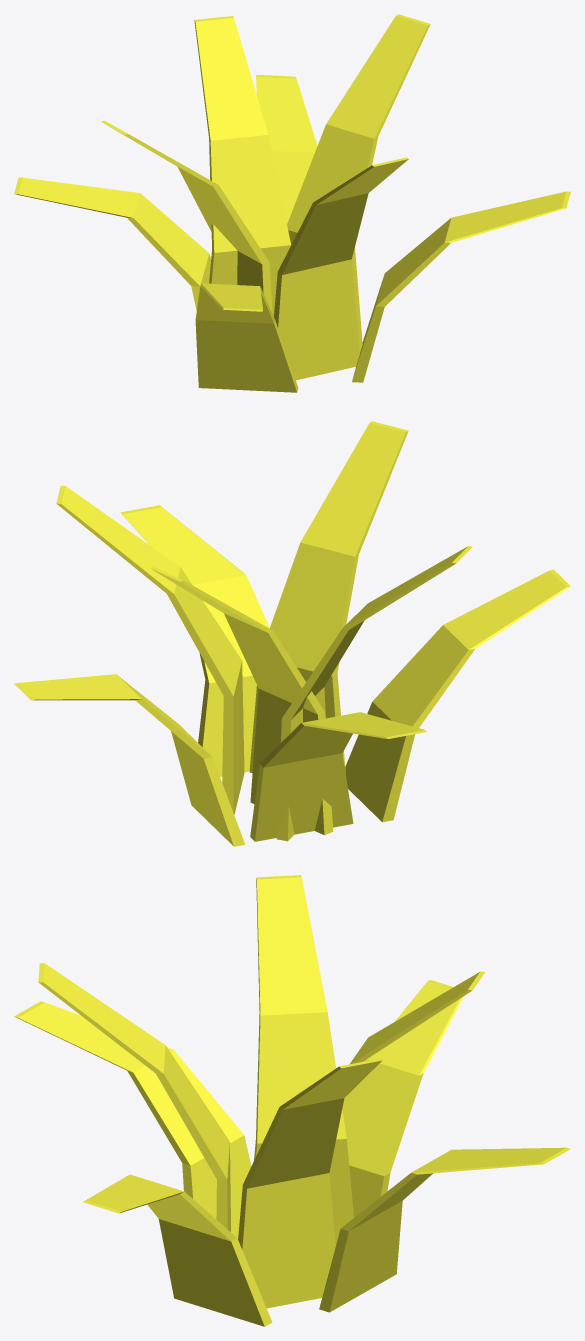
The model's file is grass_1.fbx.
3 views of the same model, one above another, from view 1: azimuth 30°, elevation 25°; view 2: azimuth 150°, elevation 25°; view 3: azimuth 270°, elevation 25° (orthographic). The views are drawn at different scales.
Visible parts, largest first — view 1: grass_1; view 2: grass_1; view 3: grass_1.
Boxes of the visible parts, bbox=[...] form: grass_1: bbox=[14, 14, 570, 392]; grass_1: bbox=[14, 421, 570, 846]; grass_1: bbox=[14, 875, 570, 1326].
Bounding box in the file's own units: 39.28 × 24.17 × 39.55.
